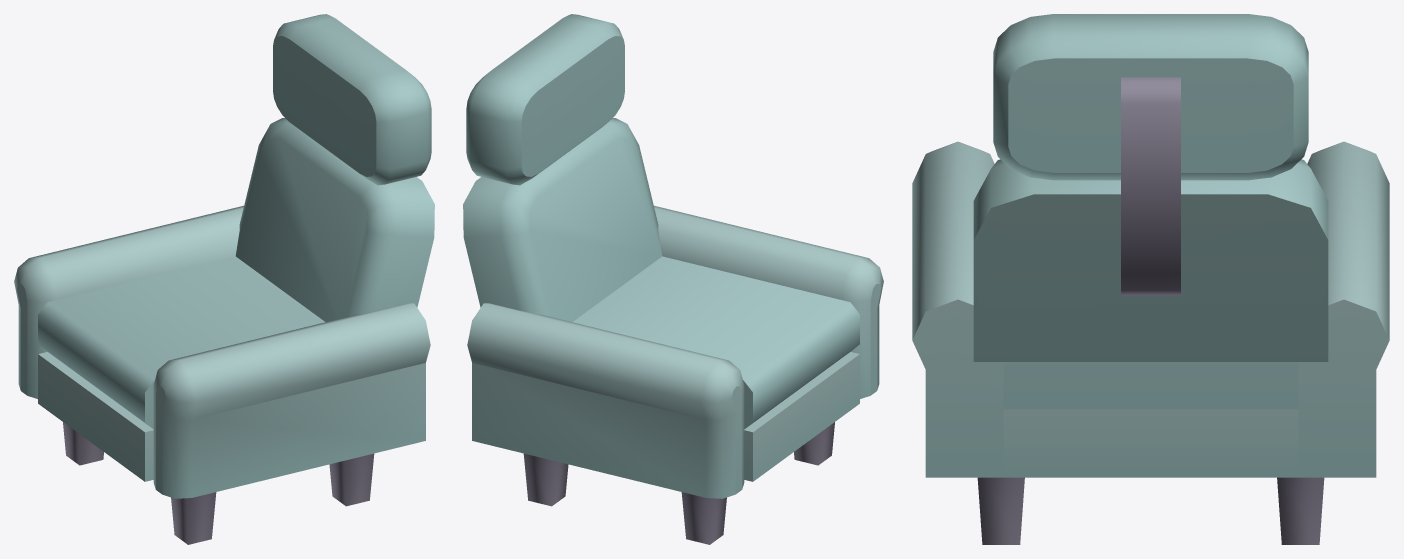
Rendered from budapest-chair-headrest.glb.
The picture shows the model from 3 angles, left to right: view 1: azimuth 30°, elevation 25°; view 2: azimuth 150°, elevation 25°; view 3: azimuth 270°, elevation 25°; orthographic projection. The views are drawn at different scales.
Parts seen in each view (by area): view 1: budapest-chair-headrest; view 2: budapest-chair-headrest; view 3: budapest-chair-headrest.
Boxes of the visible parts, x1,y1,x2,y2 form: budapest-chair-headrest: (14, 14, 434, 544); budapest-chair-headrest: (463, 14, 883, 544); budapest-chair-headrest: (912, 14, 1389, 544).
Size of the model in its own units: 0.8165 by 1.01 by 0.796.
